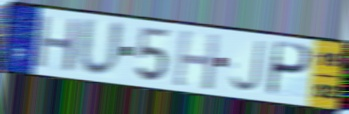5: (135, 25, 171, 83)
H: (171, 27, 222, 93), (33, 13, 82, 74)
J: (228, 38, 266, 95)
P: (264, 39, 314, 99)
U: (76, 15, 126, 80)
